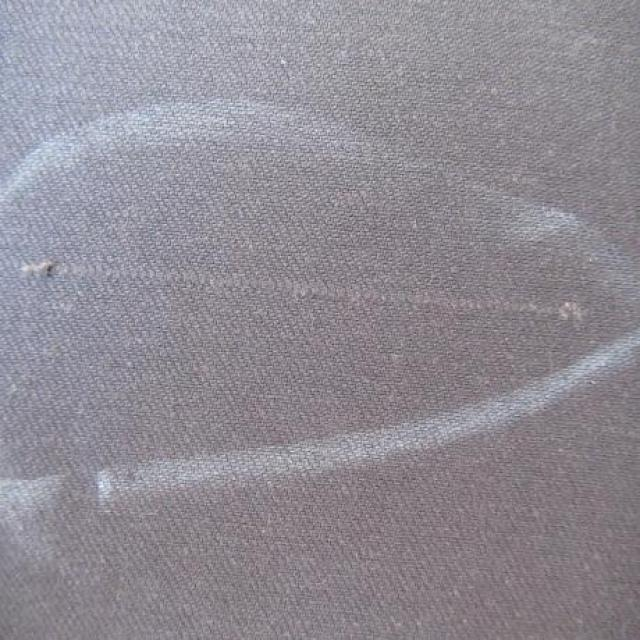stains: (16, 238, 592, 368)
